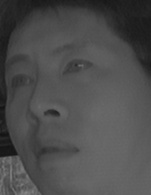eye: (61, 56, 97, 77), (7, 72, 35, 91)
mouth: (30, 135, 80, 170)
